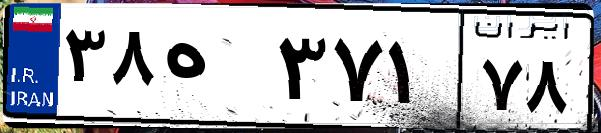1: (385, 28, 445, 110)
3: (270, 28, 330, 110), (57, 26, 110, 100)
7: (330, 28, 385, 110), (475, 38, 525, 113)
8: (525, 38, 570, 115), (110, 28, 158, 98)
ه: (158, 20, 270, 120)
